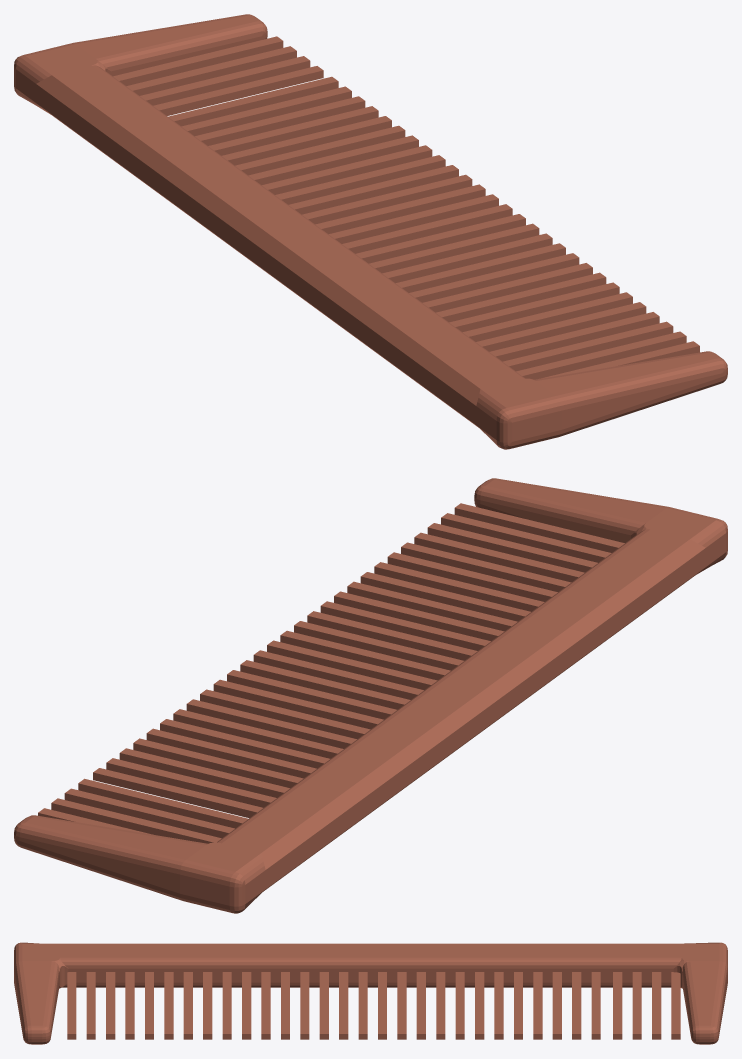
Rendered from comb.glb.
3 views of the same model, one above another, from view 1: azimuth 30°, elevation 25°; view 2: azimuth 150°, elevation 25°; view 3: azimuth 270°, elevation 25° (orthographic). The views are drawn at different scales.
Parts seen in each view (by area): view 1: Box001; view 2: Box001; view 3: Box001.
Part boxes in pixels (x1=…): Box001: x1=14, y1=14, x2=727, y2=449; Box001: x1=14, y1=478, x2=727, y2=913; Box001: x1=14, y1=942, x2=727, y2=1044.
Bounding box in the file's own units: 0.0443 × 0.0072 × 0.16.
